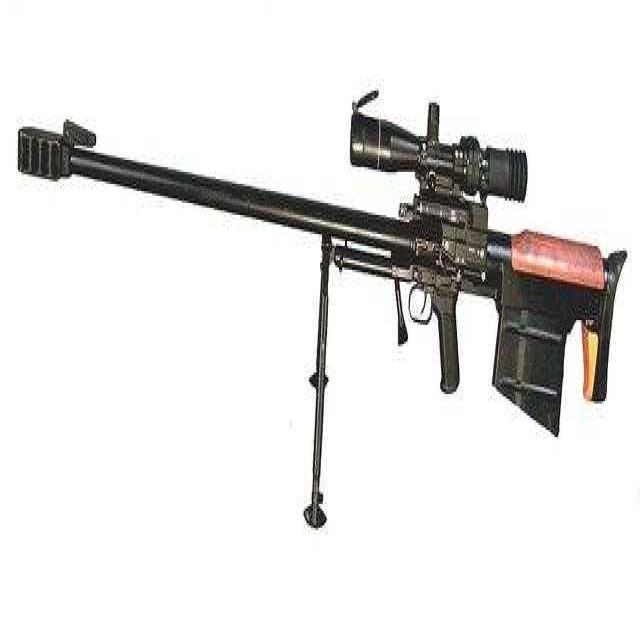heavyweapon: (8, 59, 621, 441)
